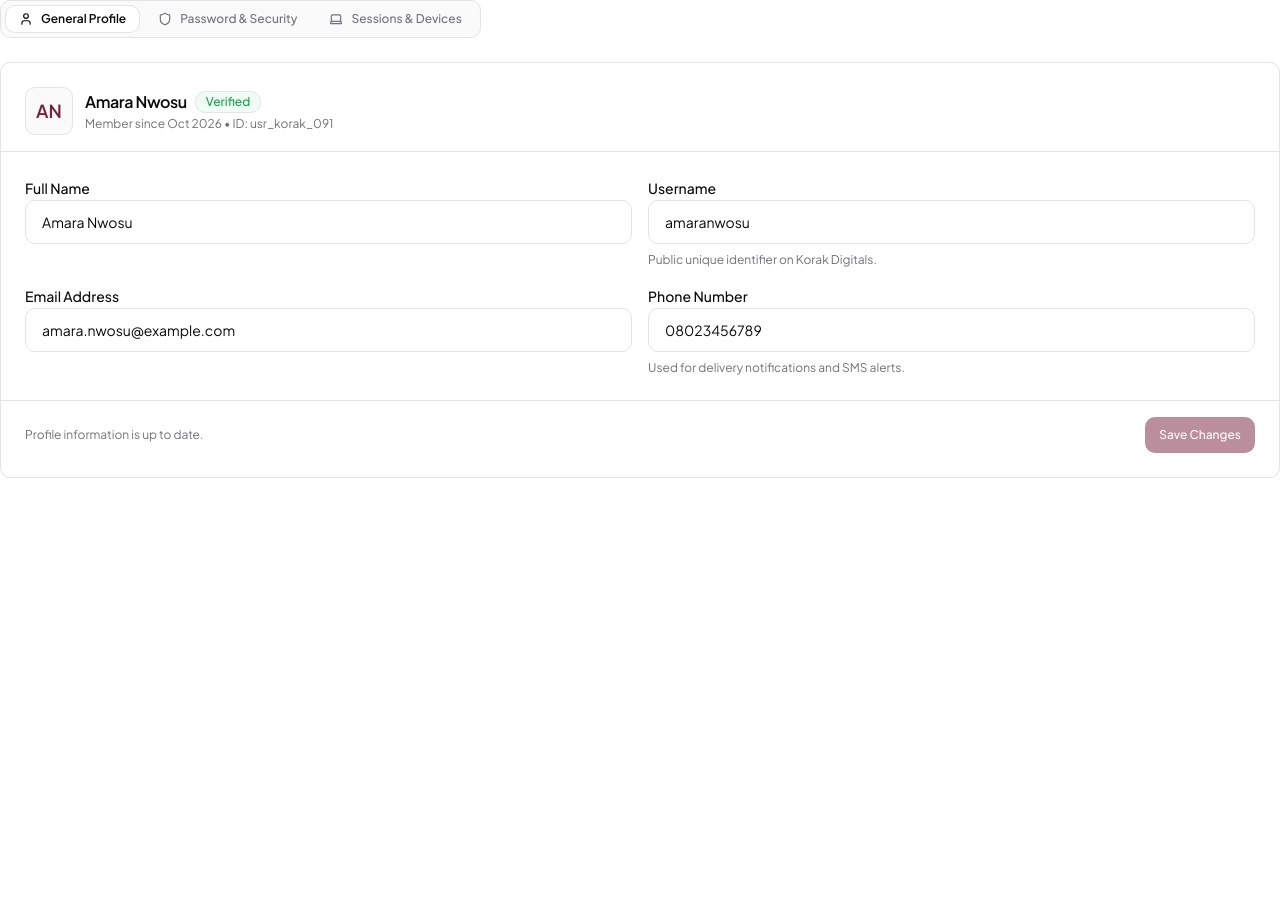
SettingsView (F13) › switches tabs when tab buttons are clicked
// Switch to Password & Security tab
Click the tab "Password & Security".
click(228, 19)  # box x1=144 y1=5 x2=311 y2=33
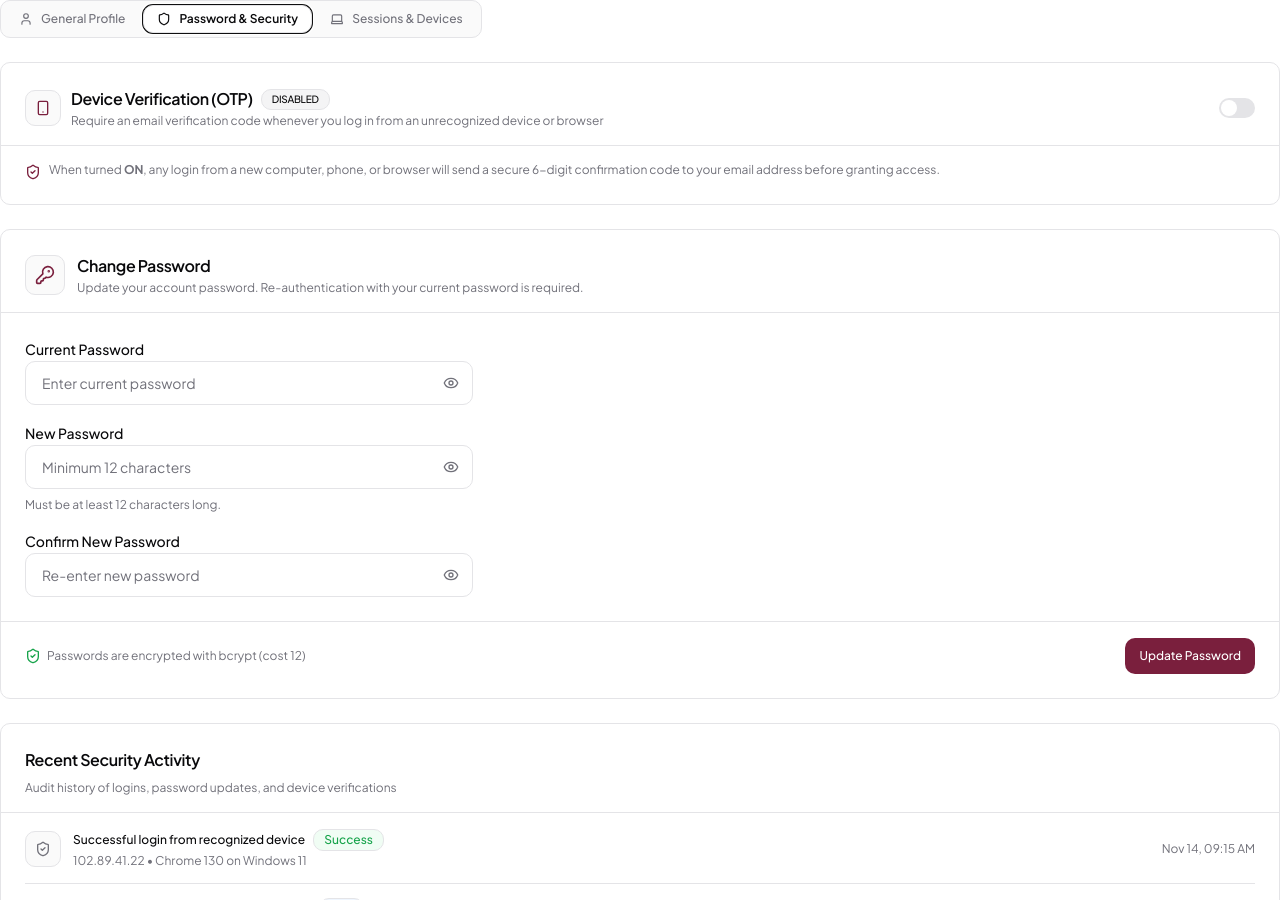
Check: the element with test id "device-verification-card" is shown, box x1=0 y1=62 x2=1279 y2=205
Check: the element with test id "change-password-card" is shown, box x1=0 y1=229 x2=1279 y2=699
// Switch to Sessions & Devices tab
Click the tab "Sessions & Devices".
click(396, 19)  # box x1=316 y1=5 x2=477 y2=33
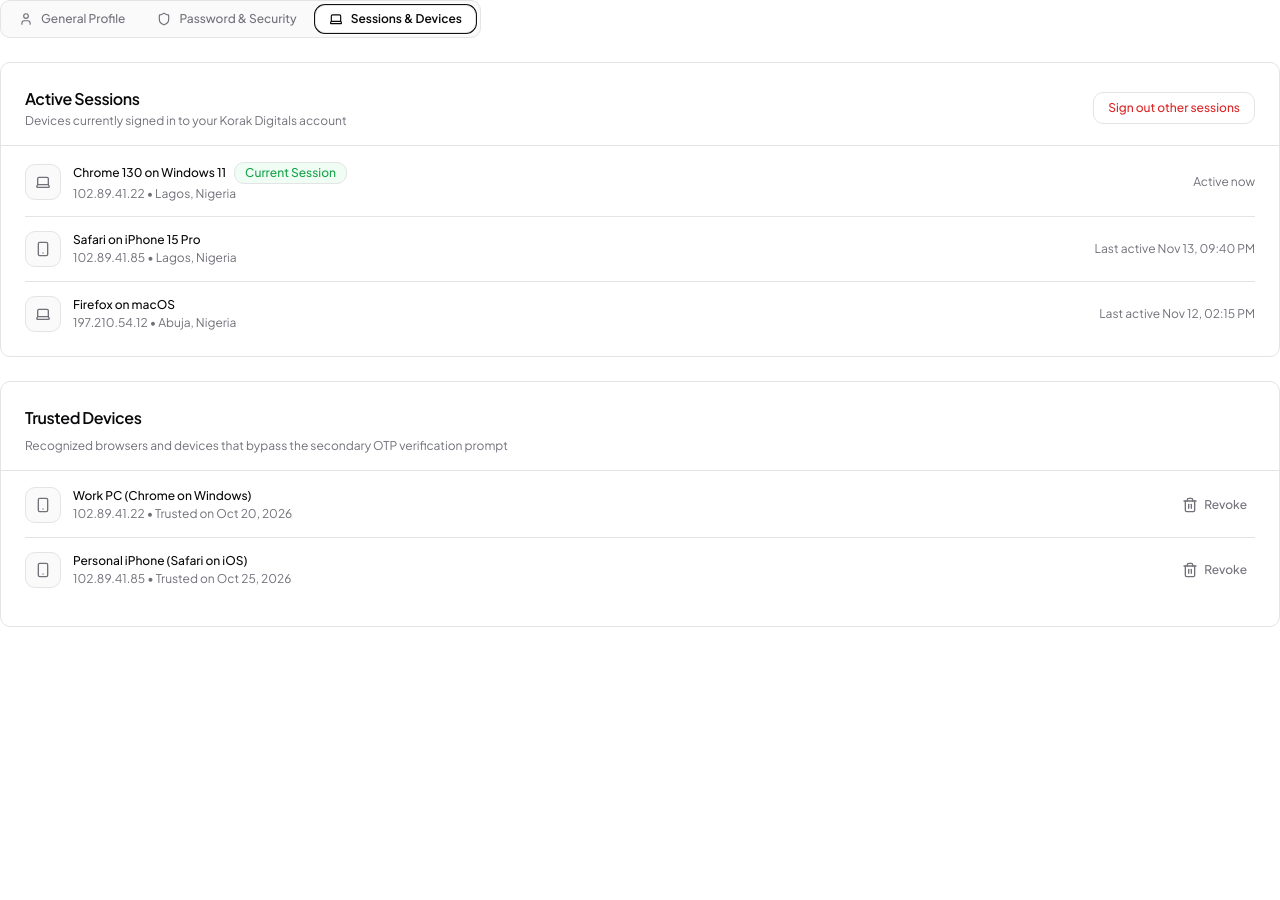
Check: the element with test id "active-sessions-card" is shown, box x1=0 y1=62 x2=1279 y2=357
Check: the element with test id "trusted-devices-card" is shown, box x1=0 y1=381 x2=1279 y2=627
